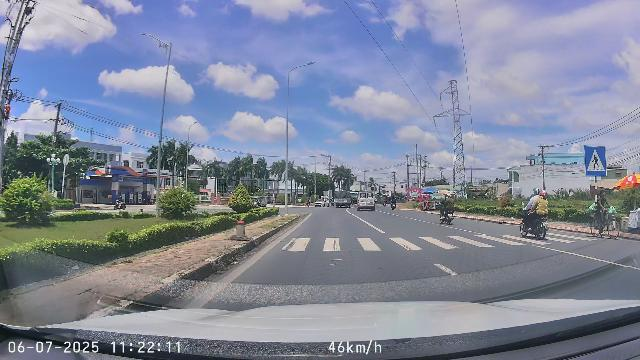423a-duong-nguoi-di-bo-sang-ngang-1: (584, 146, 607, 177)
